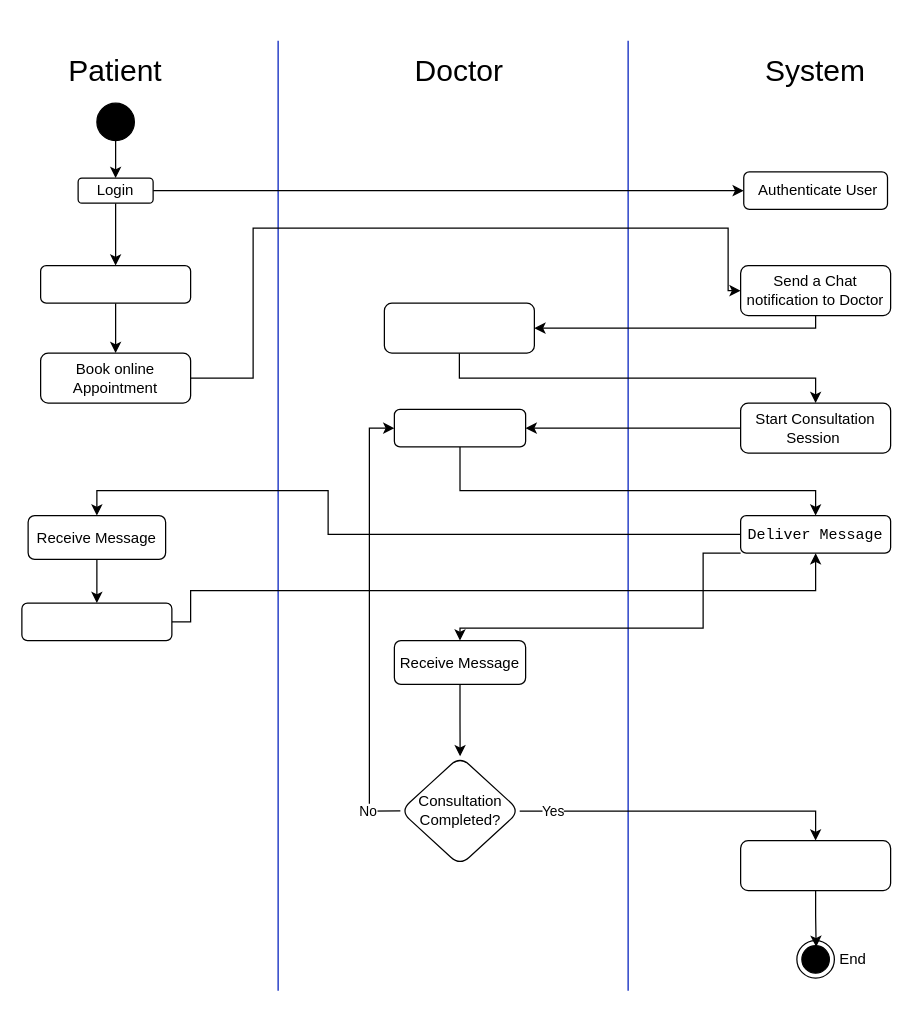
Some shapes in this 913 by 1014 pixel diagram are drawn without their labels. The shapes that lost their labels are listed below. From the top down, each one's box as (x1, y1, x2, y2) in pixels, then its label:
(39, 264, 191, 303): Search for a doctor
(383, 302, 534, 353): Open Chat with patient
(393, 408, 526, 447): Send Message
(21, 602, 172, 641): Reply Message
(739, 839, 891, 891): End Consultation
